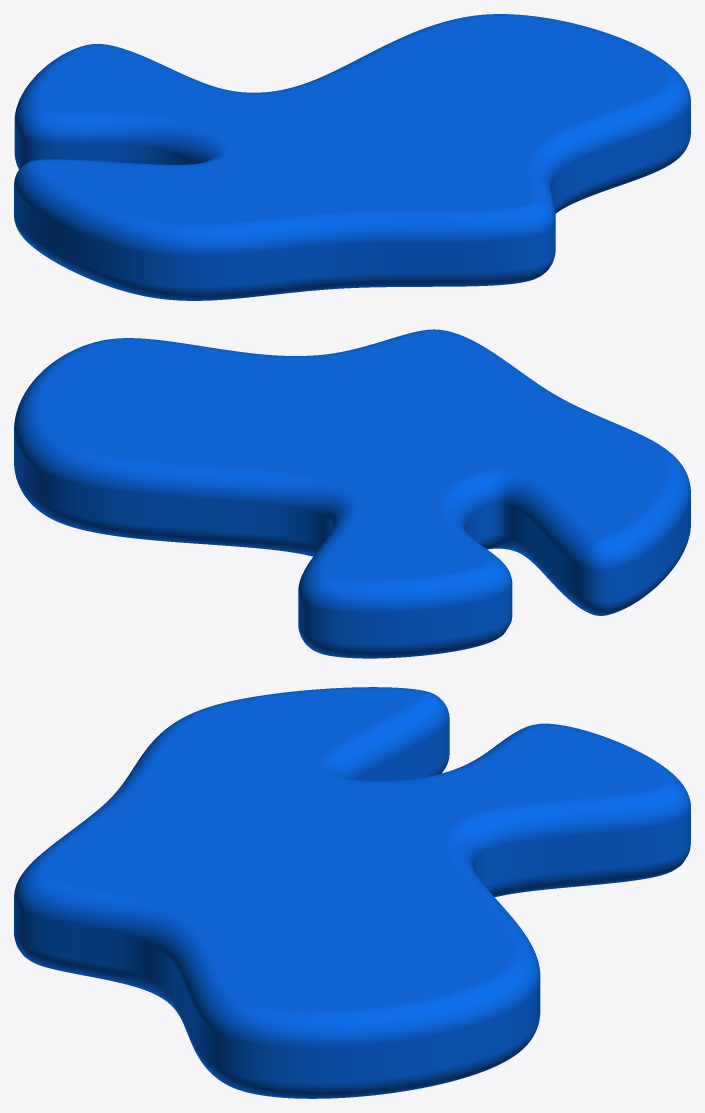
The model's file is WATER 1.fbx.
The picture shows the model from 3 angles, top to bottom: view 1: azimuth 30°, elevation 25°; view 2: azimuth 150°, elevation 25°; view 3: azimuth 270°, elevation 25°; orthographic projection. The views are drawn at different scales.
Visible parts, largest first — view 1: nÆ°á»c 1; view 2: nÆ°á»c 1; view 3: nÆ°á»c 1.
Boxes of the visible parts, left/top/right/bottom form: nÆ°á»c 1: left=14, top=14, right=690, bottom=300; nÆ°á»c 1: left=14, top=329, right=690, bottom=658; nÆ°á»c 1: left=14, top=687, right=690, bottom=1098.
Bounding box in the file's own units: 86.12 × 10 × 71.5.
